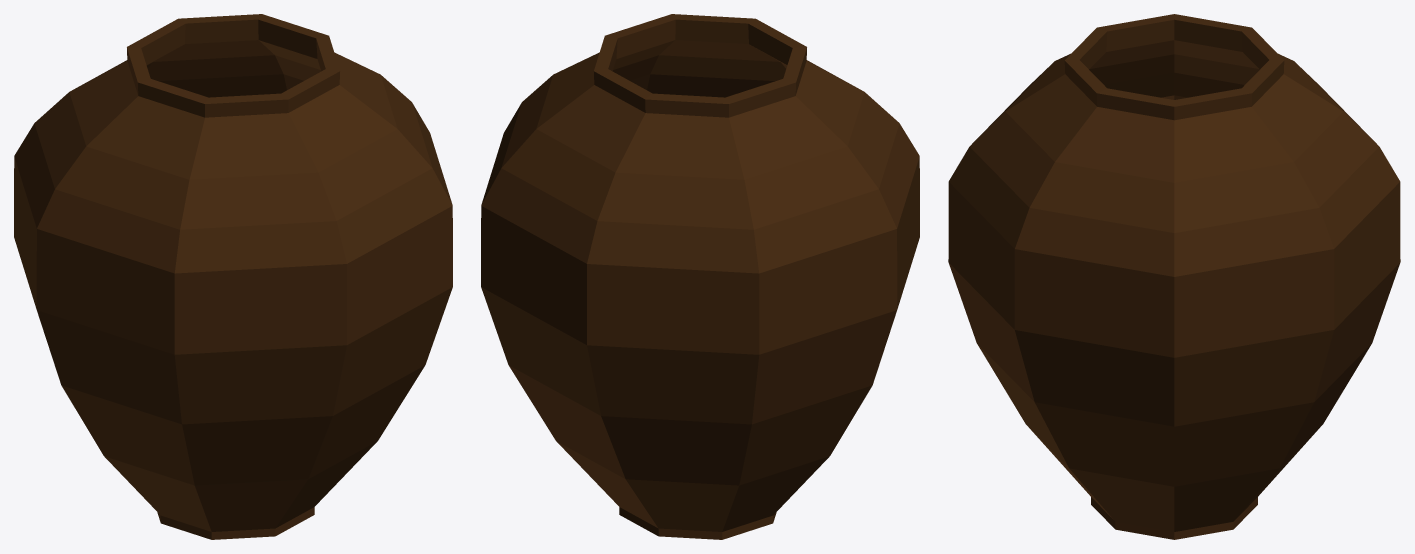
Rendered from vessel_1.fbx.
The picture shows the model from 3 angles, left to right: view 1: azimuth 30°, elevation 25°; view 2: azimuth 150°, elevation 25°; view 3: azimuth 270°, elevation 25°; orthographic projection.
Parts seen in each view (by area): view 1: vessel_1; view 2: vessel_1; view 3: vessel_1.
Part boxes in pixels (box(x1,y1,x2,y2)): vessel_1: box(14, 14, 452, 539); vessel_1: box(481, 14, 919, 539); vessel_1: box(948, 14, 1400, 539).
Bounding box in the file's own units: 122 × 133 × 122.
